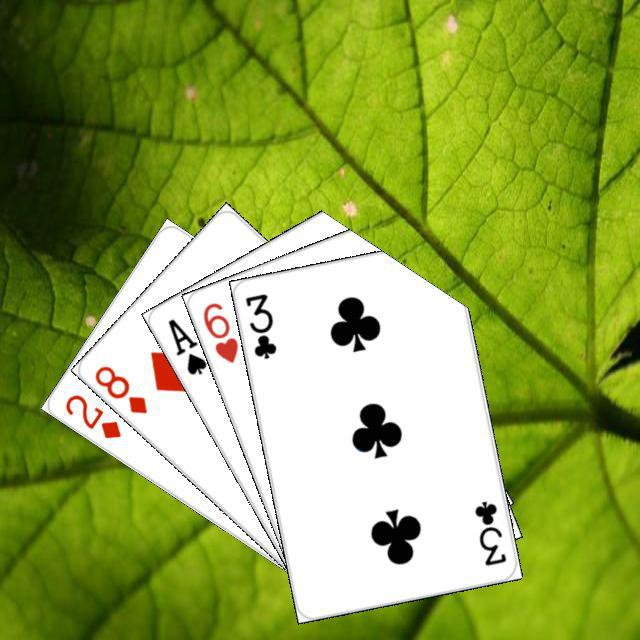2d: (60, 389, 123, 441)
3c: (469, 495, 508, 568), (240, 289, 279, 361)
6h: (198, 297, 240, 365)
8d: (89, 360, 150, 416)
As: (162, 313, 209, 377)
